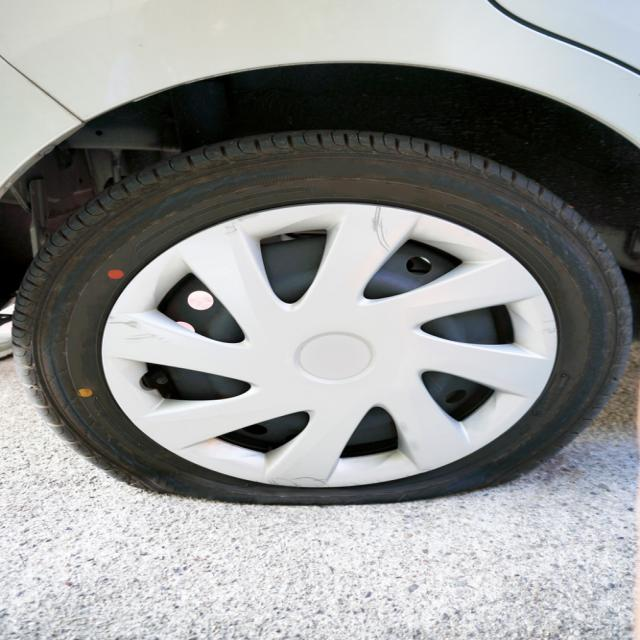tire flat: (8, 129, 637, 507)
